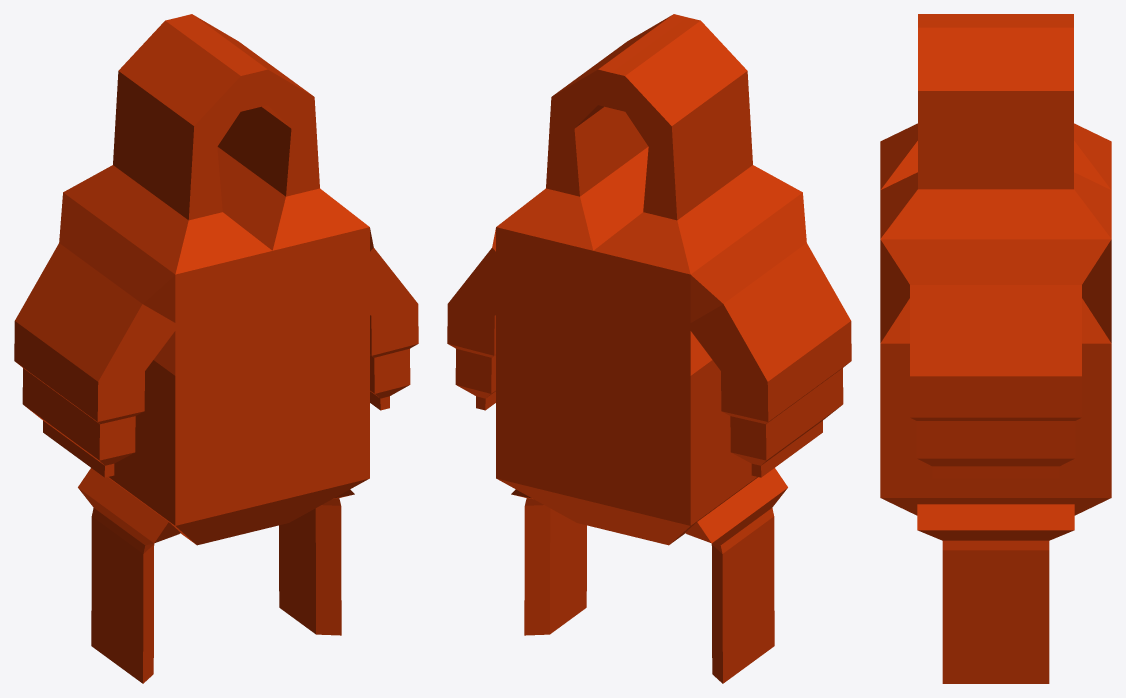
Rendered from Brobot.gltf.
3 views of the same model, side by side, from view 1: azimuth 30°, elevation 25°; view 2: azimuth 150°, elevation 25°; view 3: azimuth 270°, elevation 25° (orthographic). The views are drawn at different scales.
Visible parts, largest first — view 1: Cube; view 2: Cube; view 3: Cube.
Boxes of the visible parts, x1,y1,x2,y2 form: Cube: (14,14,418,683); Cube: (447,14,851,683); Cube: (880,14,1111,683).
Bounding box in the file's own units: 2.19 × 3.88 × 1.32.
